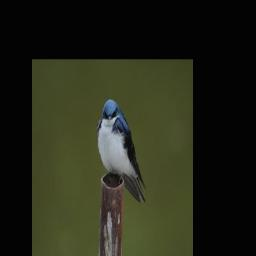Swallow: (96, 98, 147, 204)
